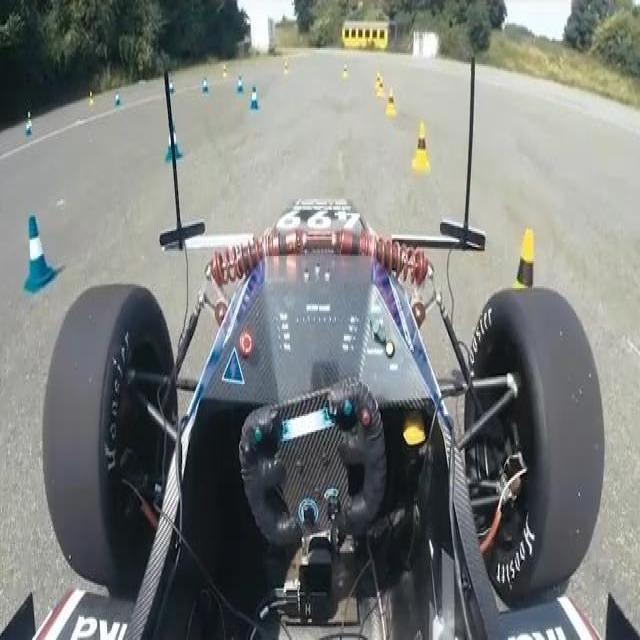blue_cone: (19, 210, 54, 290), (166, 122, 179, 160), (249, 84, 258, 112), (167, 73, 176, 98), (113, 89, 123, 108), (235, 71, 242, 94), (201, 76, 209, 96), (25, 119, 32, 139)
yellow_cone: (501, 219, 549, 369), (409, 124, 432, 174), (385, 89, 398, 116), (377, 78, 386, 97), (375, 67, 382, 91), (342, 60, 349, 80), (221, 62, 227, 80), (283, 59, 289, 76), (89, 89, 95, 106)
